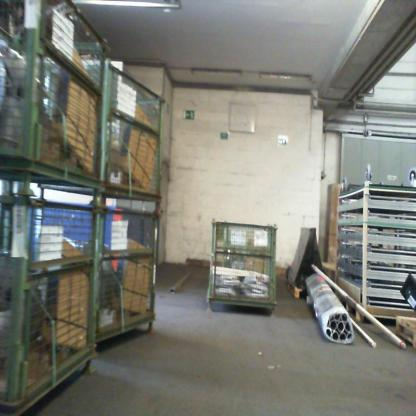pallet: (395, 312, 415, 357)
stillage: (27, 190, 172, 354), (3, 190, 100, 416), (0, 1, 107, 190), (48, 59, 170, 208), (211, 216, 277, 310)
